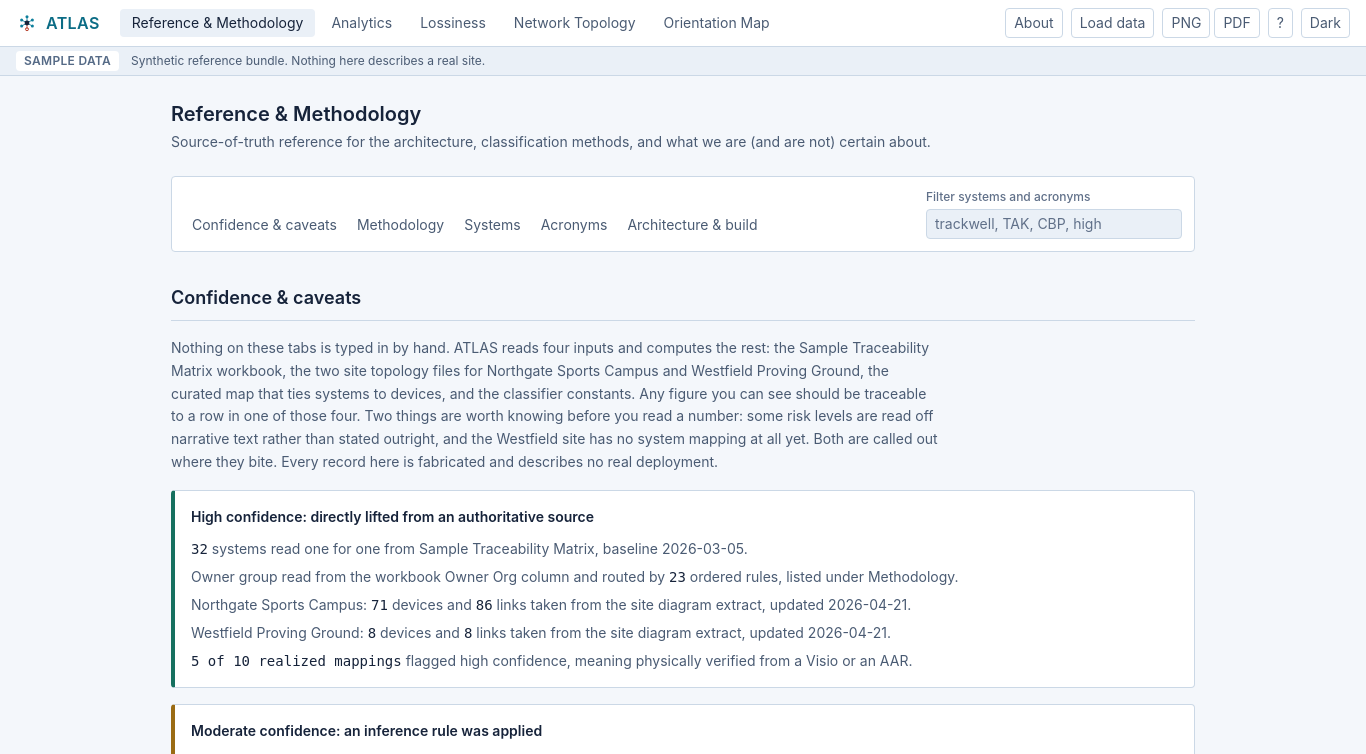
Scenario: shortcuts dialog › opens from the toolbar button
Click the button named "keyboard shortcuts" at coordinates (1280, 23), box [1268,8,1293,38]
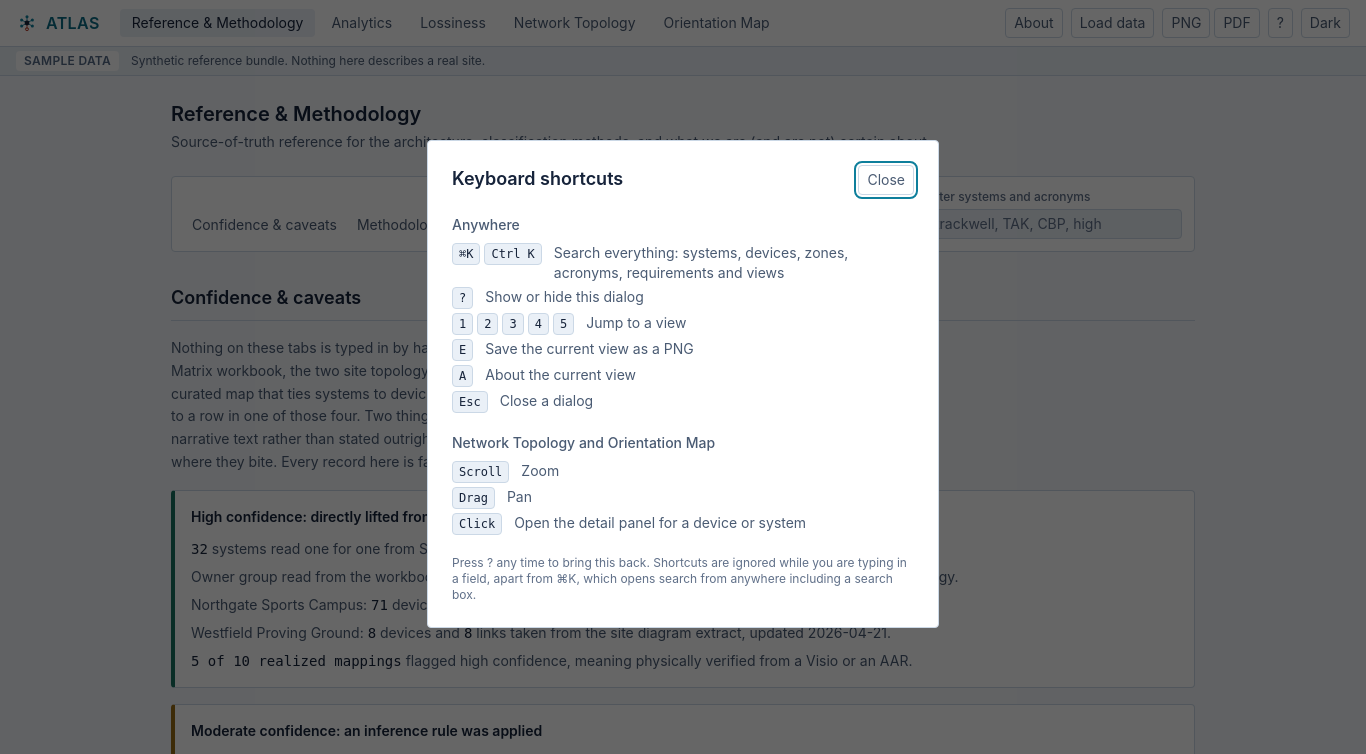
Check: the dialog "Keyboard shortcuts" is shown, box [427,140,939,628]
